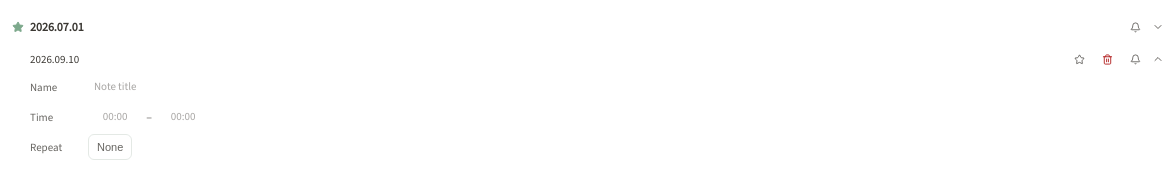
Test case: NoteDatesList — justAddedId auto-expands the newly created row › a repeated (unchanged) justAddedId value does not re-open a row the user closed
Expected: the element with test id "note-date-body-d1" is shown, [12, 74, 1164, 166]
Click the element with test id "note-date-row-d1" at (55, 59), box [12, 44, 1164, 74]
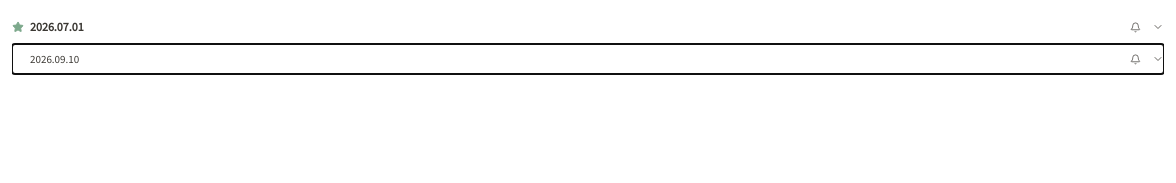
Now the element with test id "note-date-body-d1" is gone
